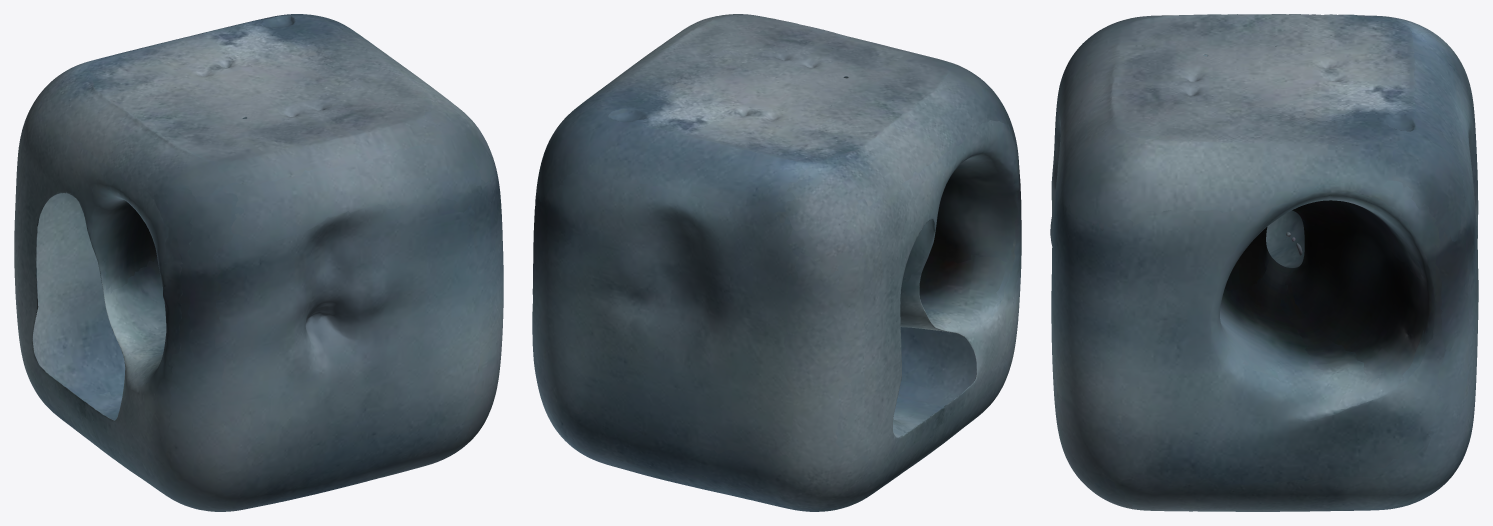
File: moon_rock_a.glb
3 renders of one model, left to right at view 1: azimuth 30°, elevation 25°; view 2: azimuth 150°, elevation 25°; view 3: azimuth 270°, elevation 25°, orthographic. The views are drawn at different scales.
Parts seen in each view (by area): view 1: geometry_0; view 2: geometry_0; view 3: geometry_0.
Part boxes in pixels (x1,y1,x2,y2): geometry_0: (14,14,503,511); geometry_0: (532,14,1021,511); geometry_0: (1050,14,1478,511).
Bounding box in the file's own units: 0.9888 × 0.9573 × 0.9957.
Materials: 1 (1 with a texture image).
